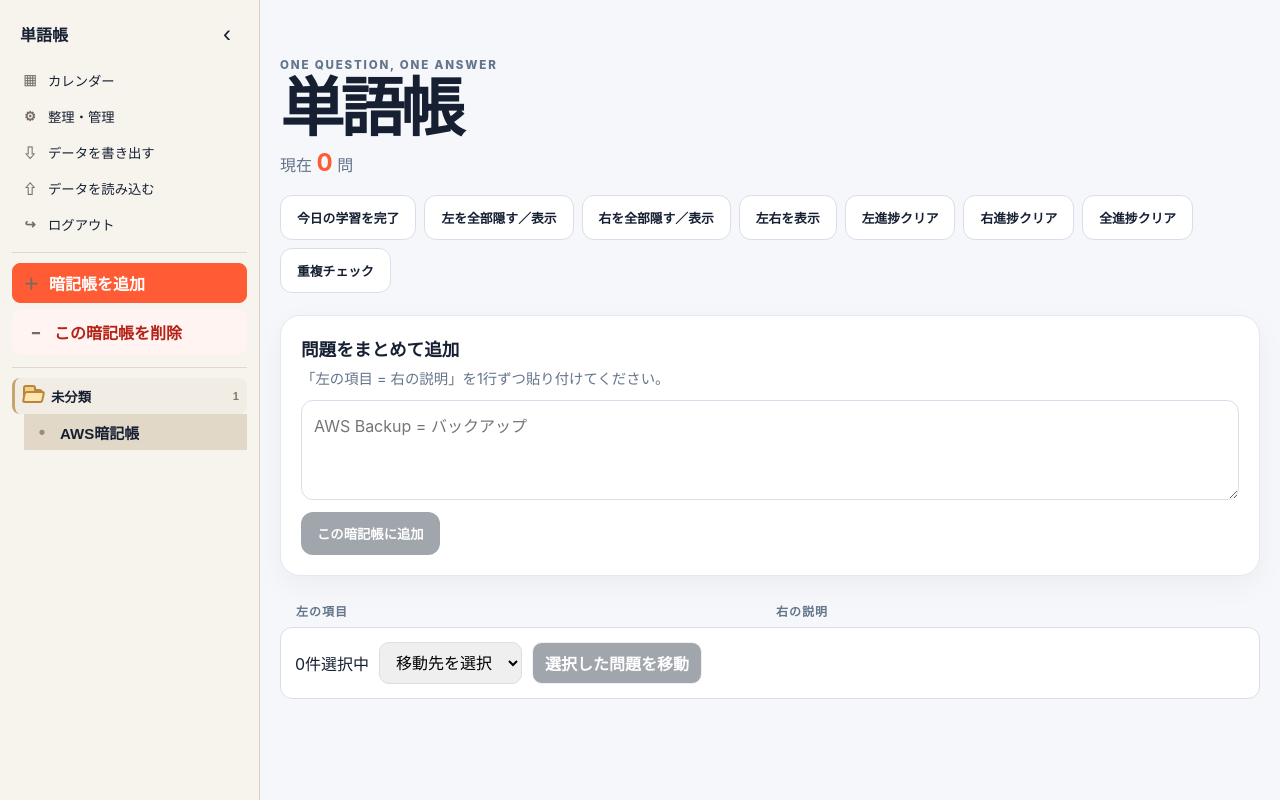
App organization navigation › creates a folder when randomUUID is unavailable
Click the button "⚙ 整理・管理" at (130, 116), box [12,98,247,134]
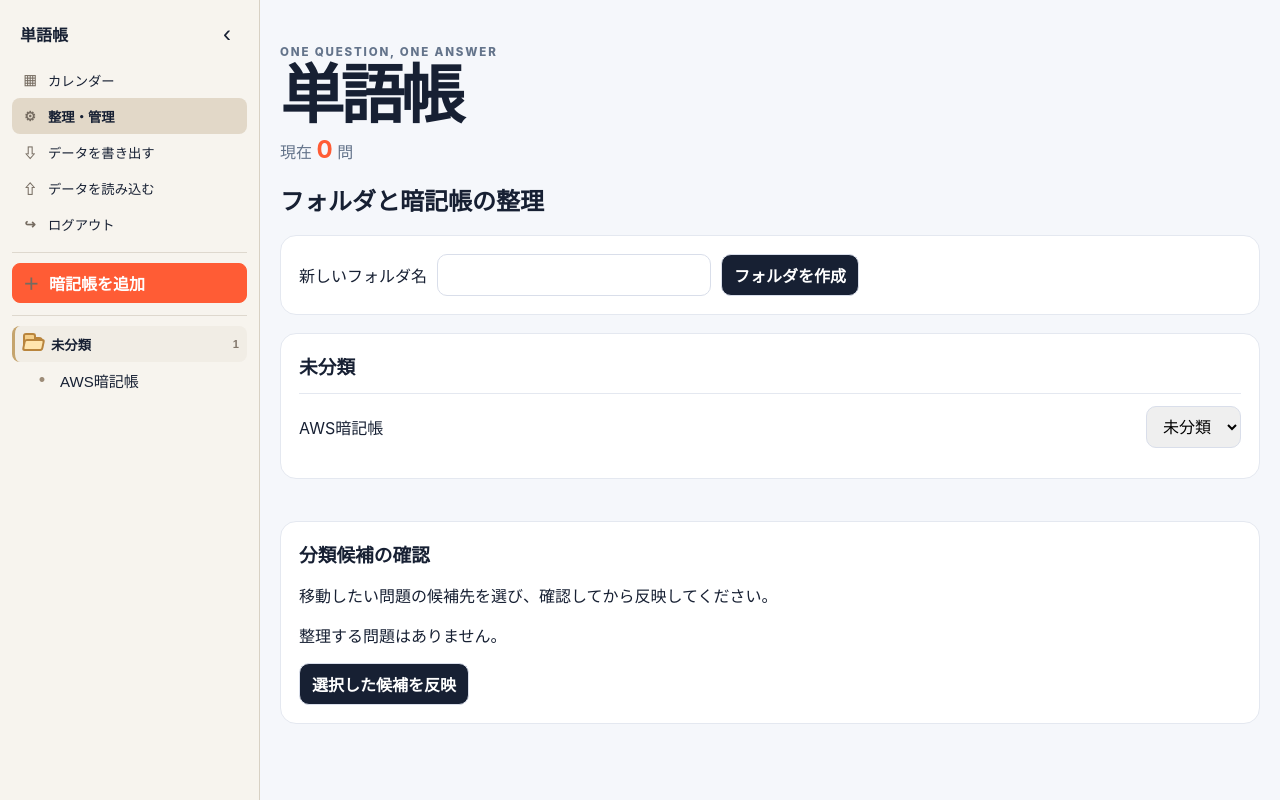
Type "資格" into the field labelled "新しいフォルダ名" at (574, 274), box [437,254,711,296]
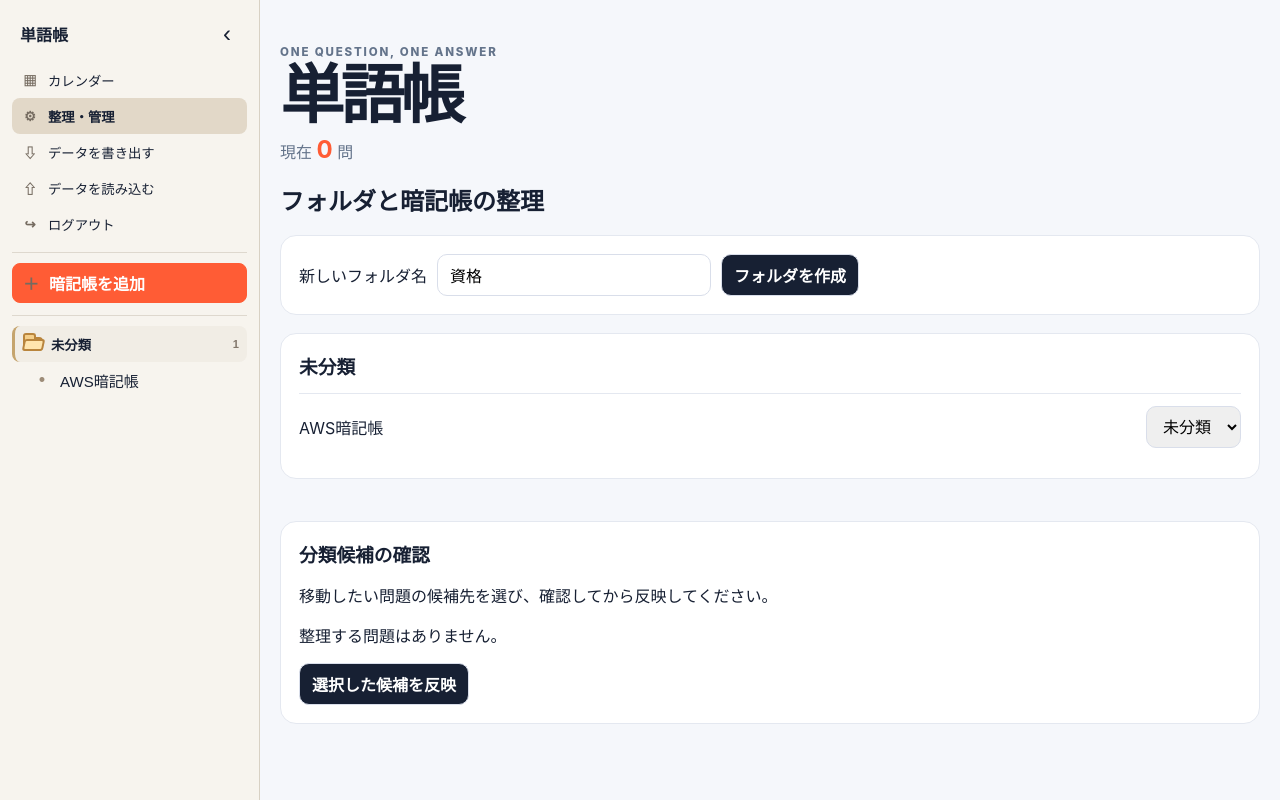
Click the button "フォルダを作成" at (790, 274), box [721,254,859,296]
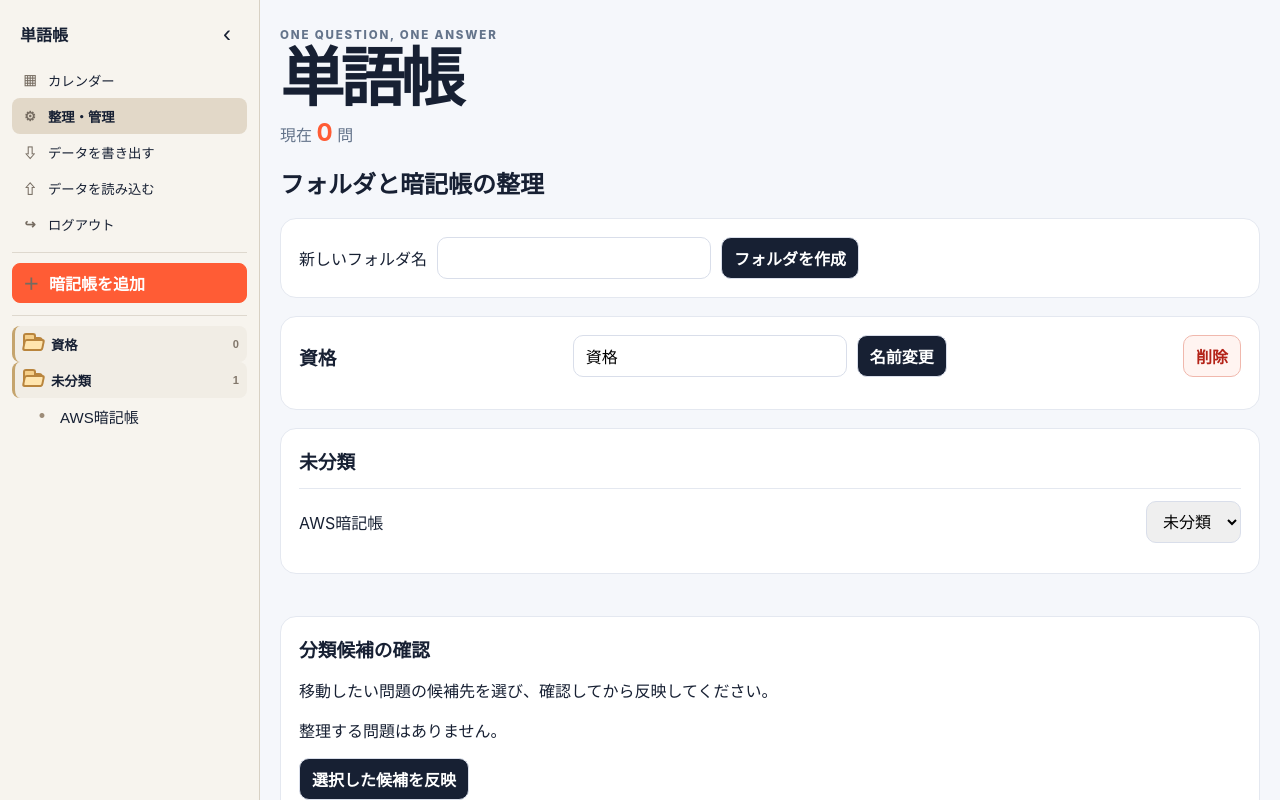
Now the element "資格" is shown, box [280,316,1260,410]
